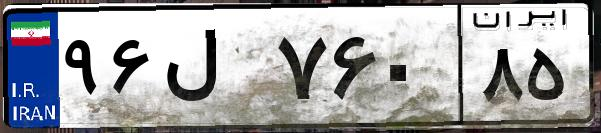0: (385, 28, 445, 110)
5: (525, 38, 570, 115)
6: (330, 28, 385, 110), (110, 28, 158, 98)
7: (270, 28, 330, 110)
8: (475, 38, 525, 113)
9: (57, 26, 110, 100)
ل: (158, 20, 270, 120)
